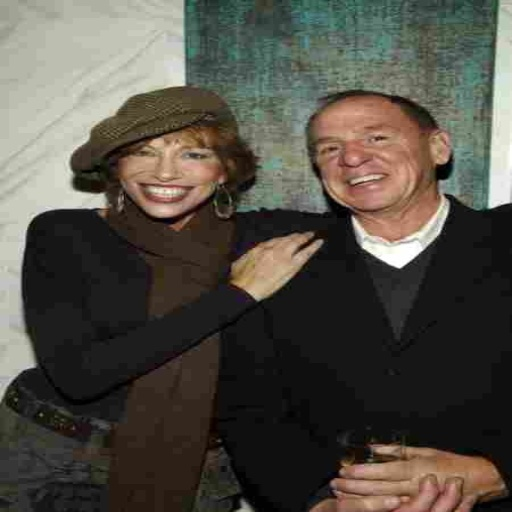hand: (337, 446, 494, 512), (229, 230, 323, 301)
